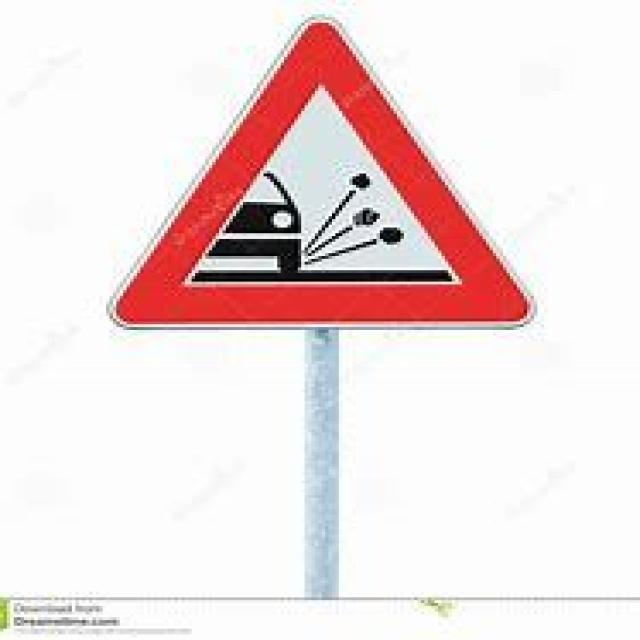loose gravel: (101, 14, 538, 326)
